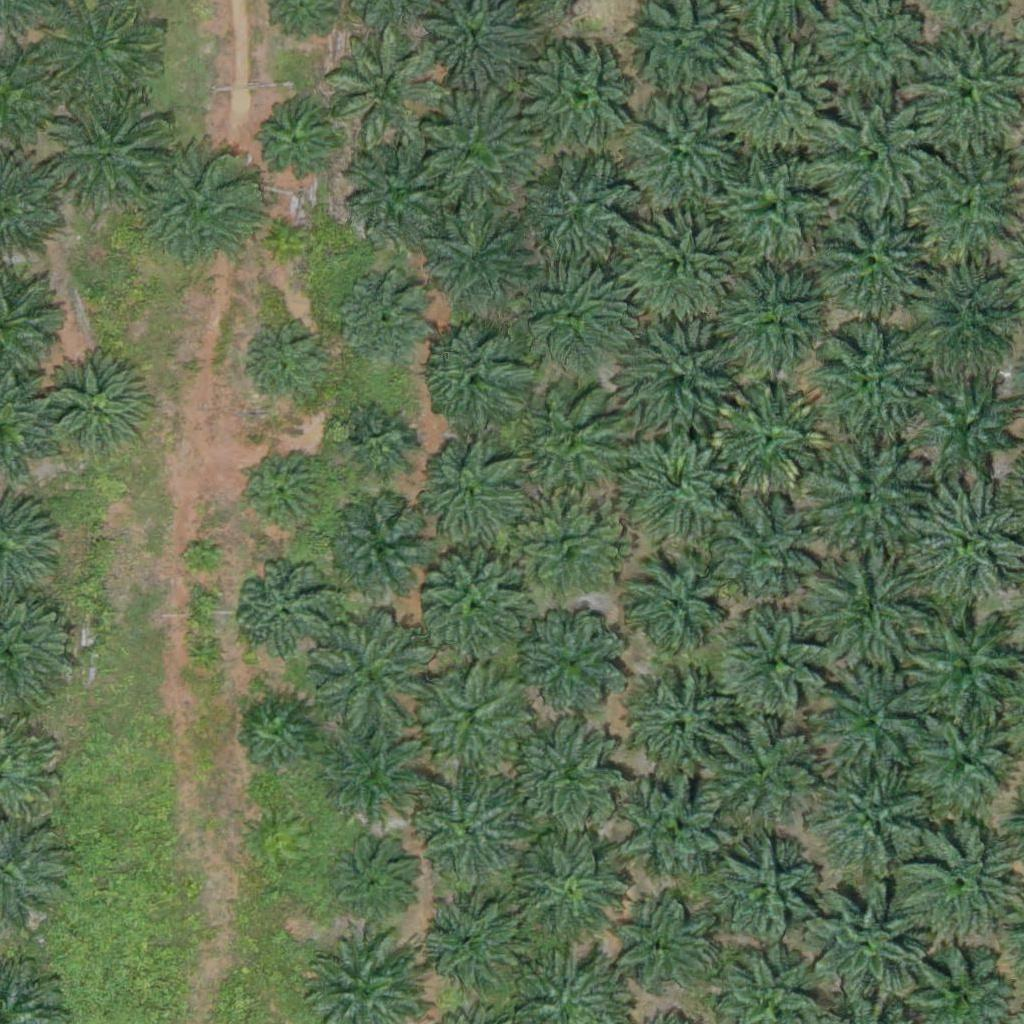Kelapa_Sawit: (522, 39, 647, 165), (728, 39, 853, 165), (811, 93, 936, 219), (807, 196, 932, 322), (807, 315, 932, 441), (805, 435, 930, 561), (795, 550, 920, 676), (416, 85, 541, 211), (41, 88, 166, 214), (305, 609, 430, 735), (811, 658, 936, 784), (809, 752, 934, 878), (804, 887, 929, 1013), (141, 142, 266, 267), (719, 151, 832, 265), (719, 259, 832, 373), (328, 32, 441, 145), (514, 385, 627, 498), (508, 491, 621, 604), (420, 552, 533, 665), (410, 436, 523, 549), (420, 320, 533, 433), (425, 202, 538, 315), (41, 355, 154, 468), (518, 602, 631, 715), (626, 672, 739, 785), (513, 717, 626, 830), (513, 830, 626, 943), (611, 768, 724, 881), (622, 211, 734, 325), (626, 100, 738, 214), (705, 719, 817, 833), (713, 381, 825, 494), (712, 497, 824, 610), (619, 550, 731, 663), (619, 426, 731, 539), (626, 324, 738, 437), (518, 158, 630, 271), (517, 259, 629, 372), (345, 141, 457, 254), (720, 606, 832, 719), (418, 668, 530, 781), (319, 719, 431, 832), (414, 775, 526, 888), (707, 832, 819, 945), (338, 270, 438, 371), (330, 501, 430, 602), (422, 896, 522, 997), (610, 896, 710, 997), (917, 374, 1017, 474), (234, 564, 334, 664), (243, 322, 331, 410), (241, 450, 329, 538), (253, 98, 341, 186), (331, 833, 418, 921), (240, 698, 315, 774), (342, 405, 417, 480), (276, 221, 314, 259), (184, 541, 221, 579)
